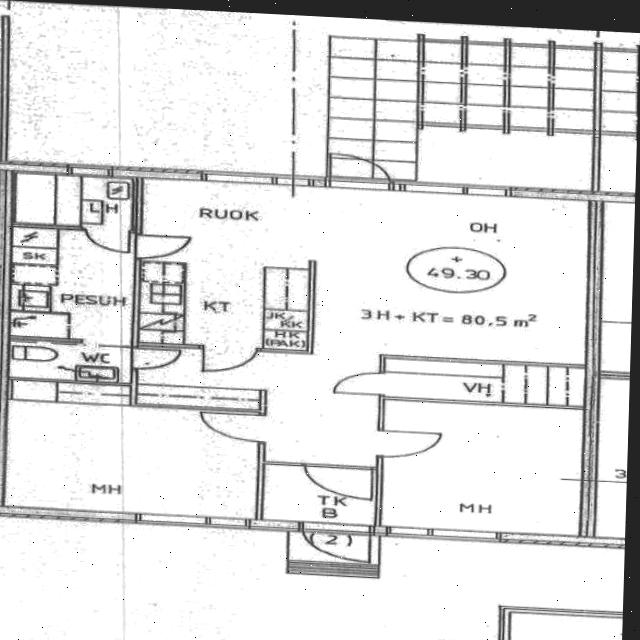room: (3, 380, 260, 519), (379, 400, 584, 536), (8, 227, 135, 341), (383, 359, 584, 406), (262, 465, 376, 525), (15, 173, 134, 229), (8, 339, 132, 384), (511, 613, 623, 640)
